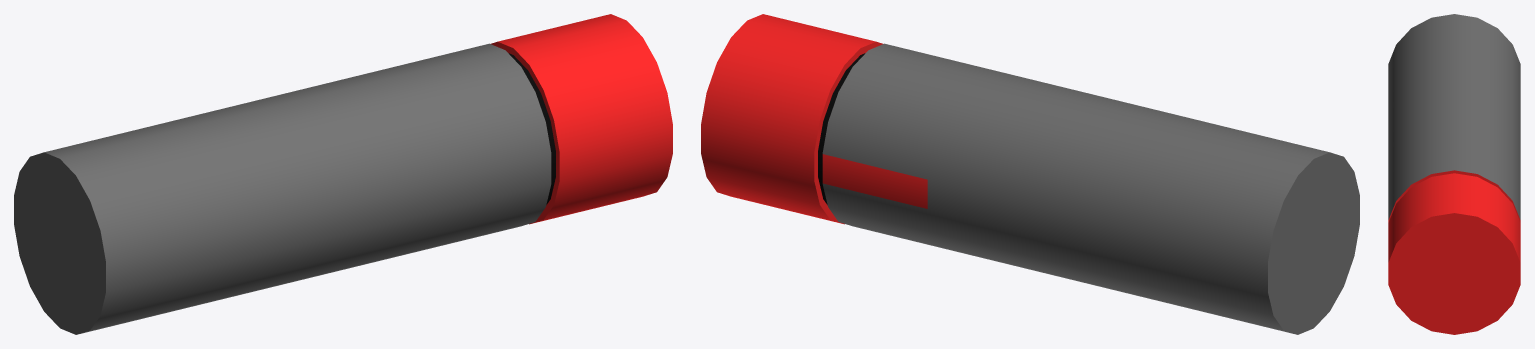
The model's file is Anethesia Cart - Can Red.FBX.
The picture shows the model from 3 angles, left to right: view 1: azimuth 30°, elevation 25°; view 2: azimuth 150°, elevation 25°; view 3: azimuth 270°, elevation 25°; orthographic projection. The views are drawn at different scales.
Visible parts, largest first — view 1: Cylinder001; view 2: Cylinder001; view 3: Cylinder001.
Part boxes in pixels (x1,y1,x2,y2): Cylinder001: [14, 14, 672, 334]; Cylinder001: [701, 14, 1359, 334]; Cylinder001: [1388, 14, 1520, 334].
Bounding box in the file's own units: 17.5 × 5 × 4.92.
